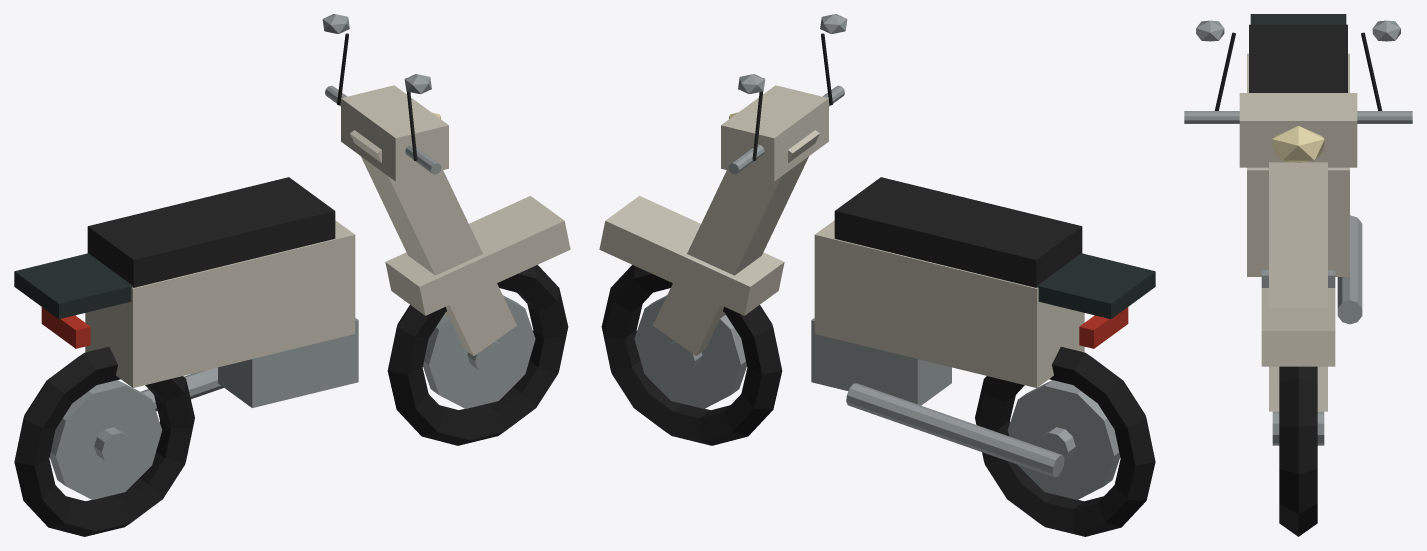
Rendered from xe_may_trang.glb.
3 views of the same model, side by side, from view 1: azimuth 30°, elevation 25°; view 2: azimuth 150°, elevation 25°; view 3: azimuth 270°, elevation 25° (orthographic). The views are drawn at different scales.
Parts seen in each view (by area): view 1: xe_may_trang; view 2: xe_may_trang; view 3: xe_may_trang.
Boxes of the visible parts, x1=… form: xe_may_trang: x1=14, y1=14, x2=570, y2=536; xe_may_trang: x1=599, y1=14, x2=1155, y2=536; xe_may_trang: x1=1184, y1=14, x2=1412, y2=536.
Bounding box in the file's own units: 1.87 × 1.36 × 0.62.
